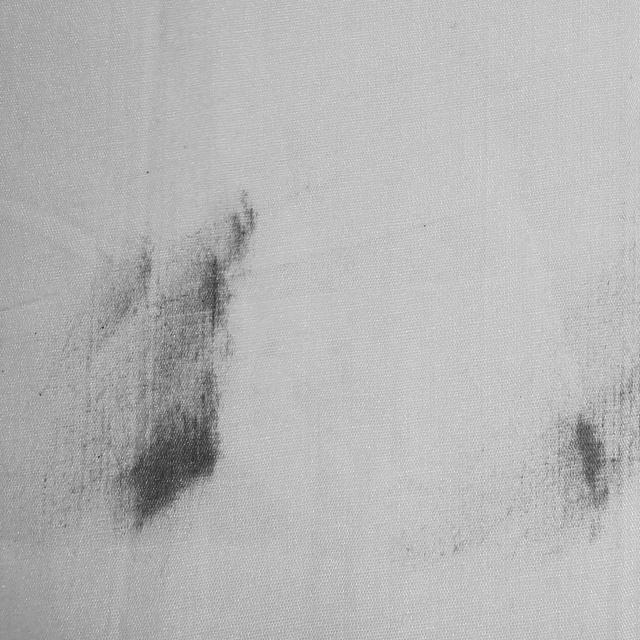Stain: (45, 194, 255, 528), (515, 356, 640, 557)
